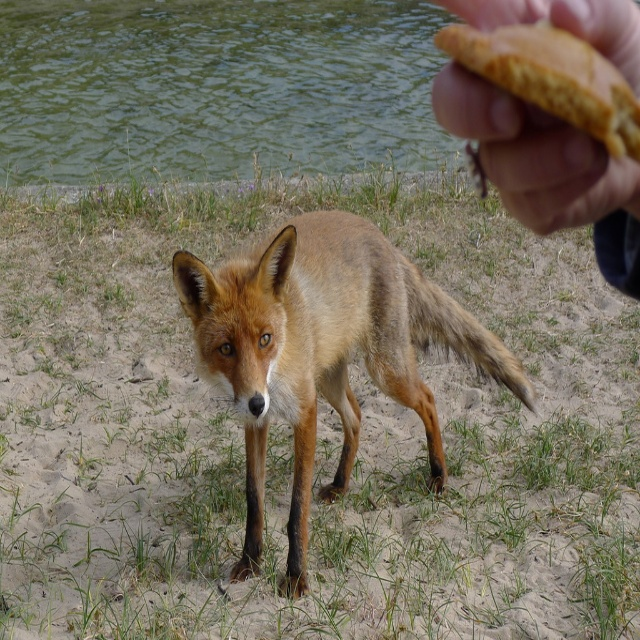Fox: (172, 209, 542, 600)
